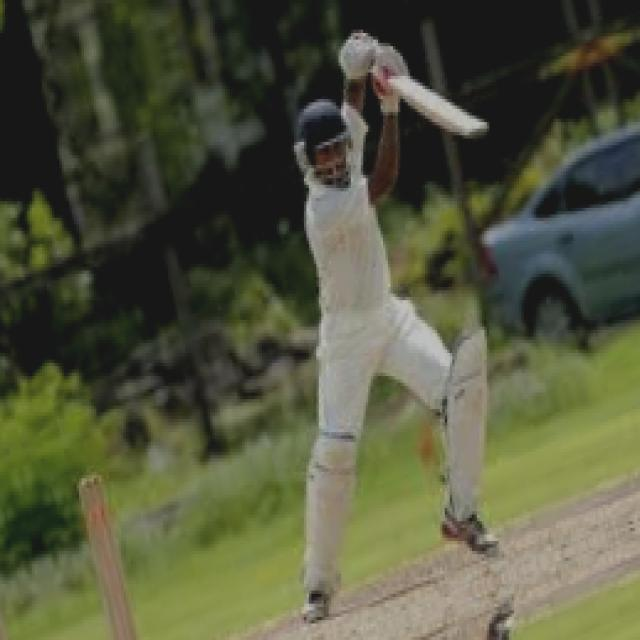bat: (382, 73, 492, 142)
toe: (458, 123, 490, 139)
